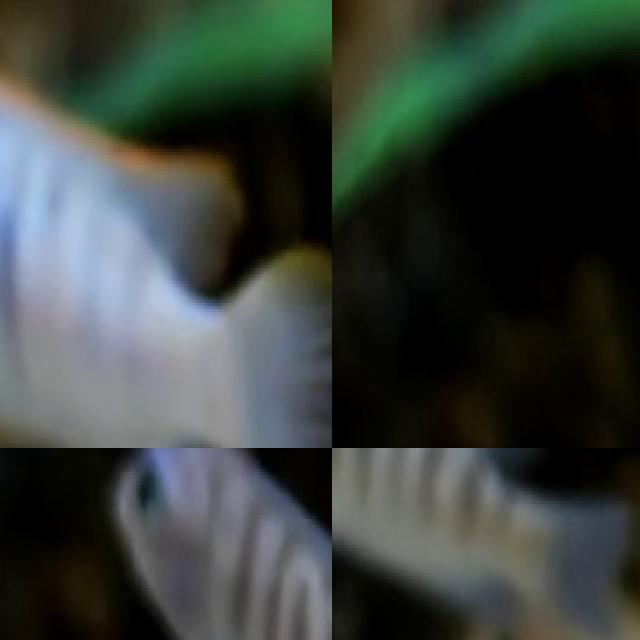fish: (0, 0, 332, 448), (105, 448, 332, 640)
